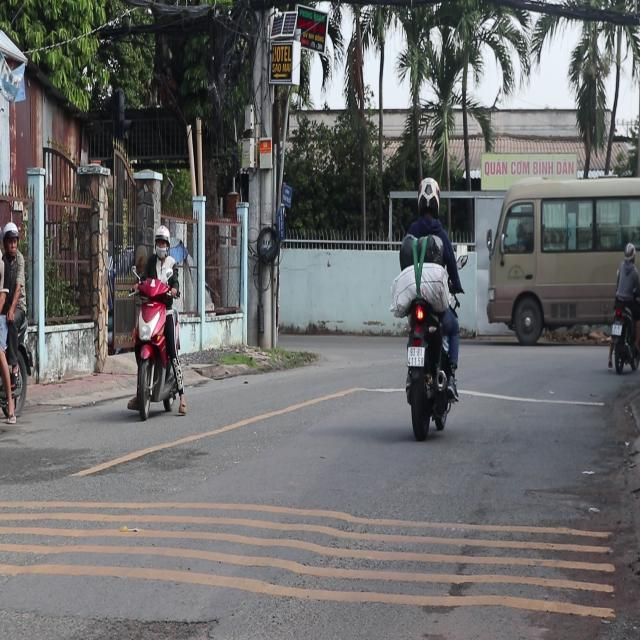helmet: (416, 175, 440, 216), (152, 224, 169, 259)
licenseplate: (391, 175, 462, 439), (126, 222, 186, 418)
nohelmet: (407, 346, 423, 365)
